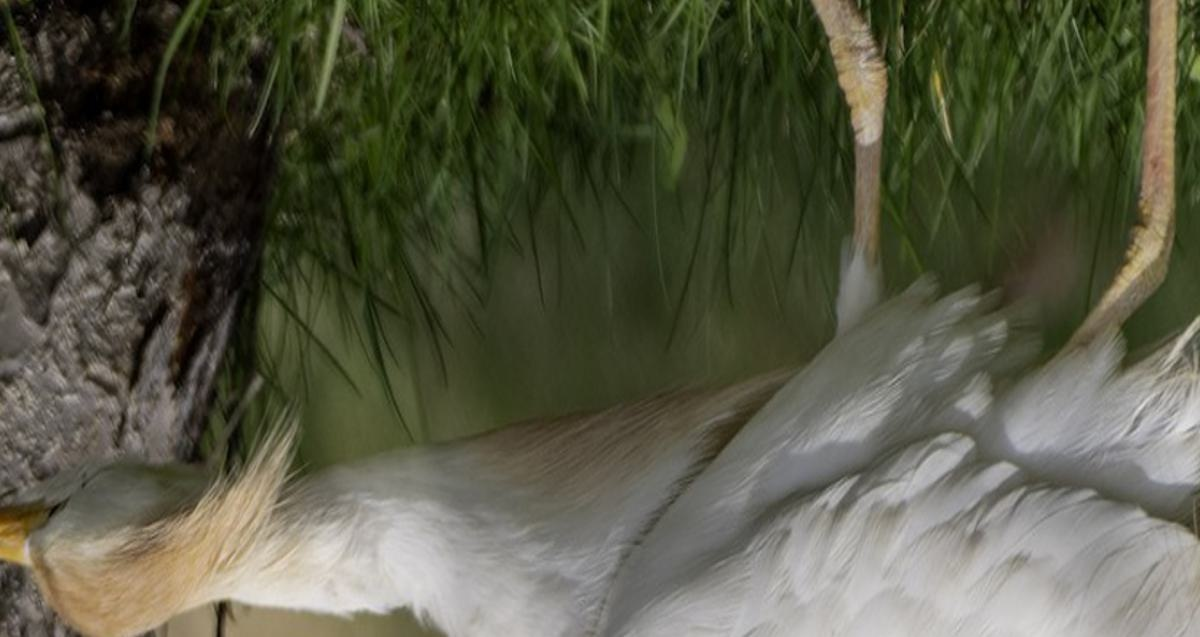egret: (6, 59, 1200, 637)
